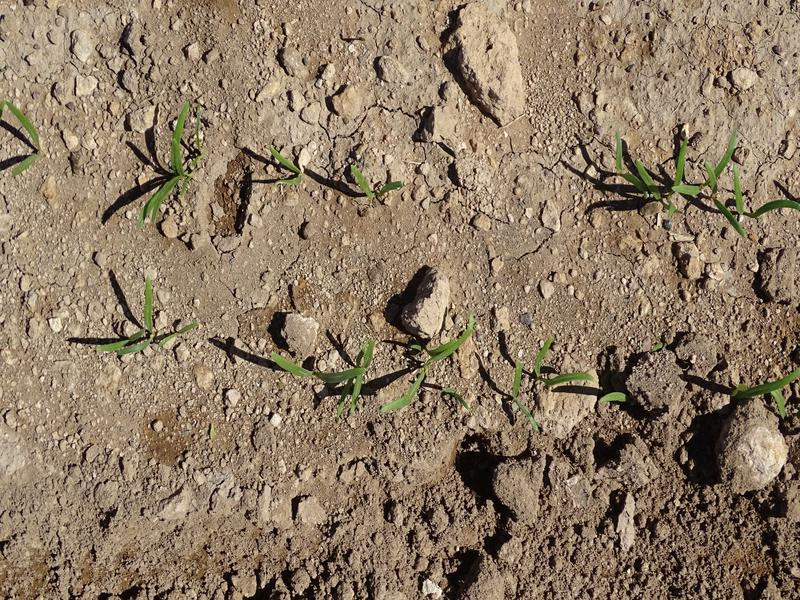Espinaca: (611, 135, 751, 237), (379, 320, 478, 415), (275, 339, 375, 409), (139, 101, 195, 222), (97, 276, 162, 358), (684, 367, 798, 413), (515, 348, 576, 418), (343, 165, 406, 204), (7, 99, 38, 178), (267, 141, 306, 192)
